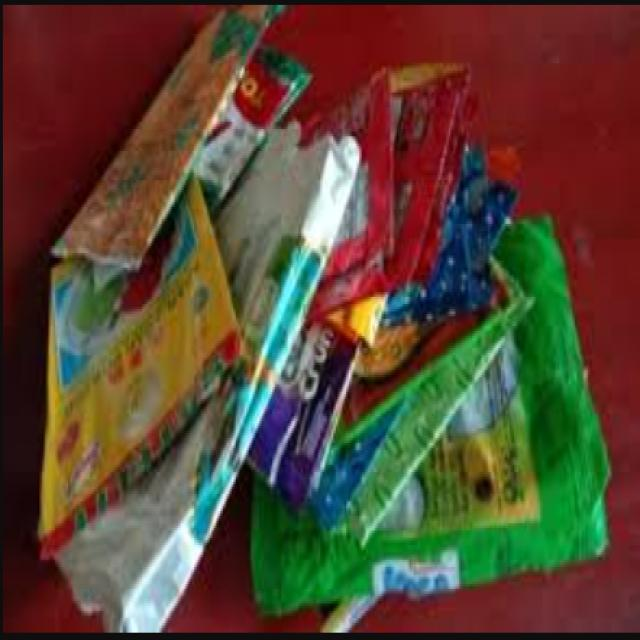KemasanPlastik: (35, 9, 612, 614)
